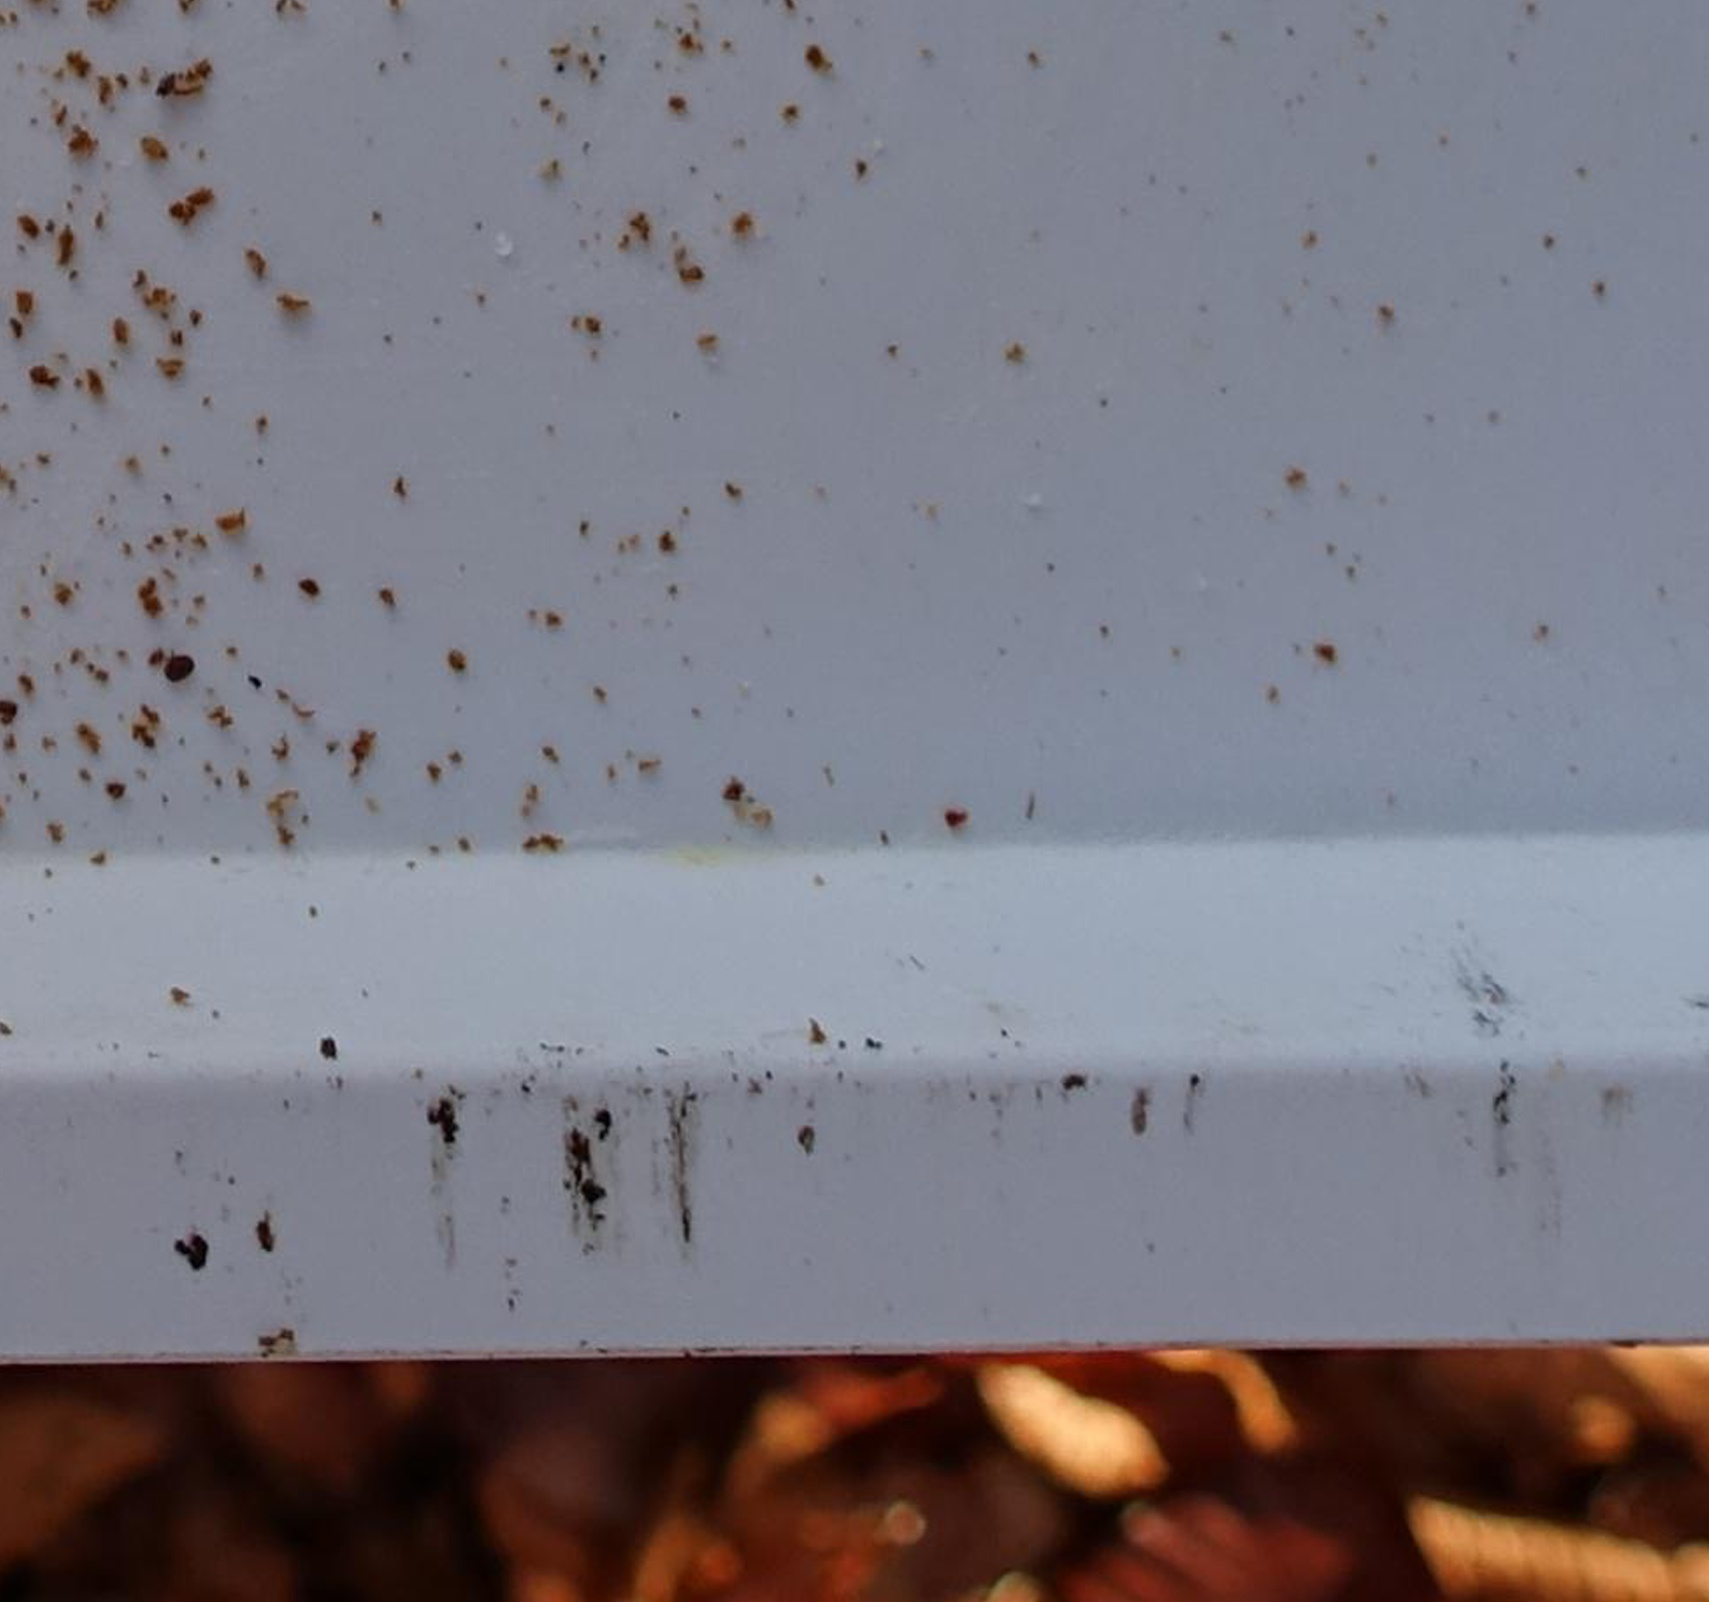Varroa: (172, 655, 193, 678)
